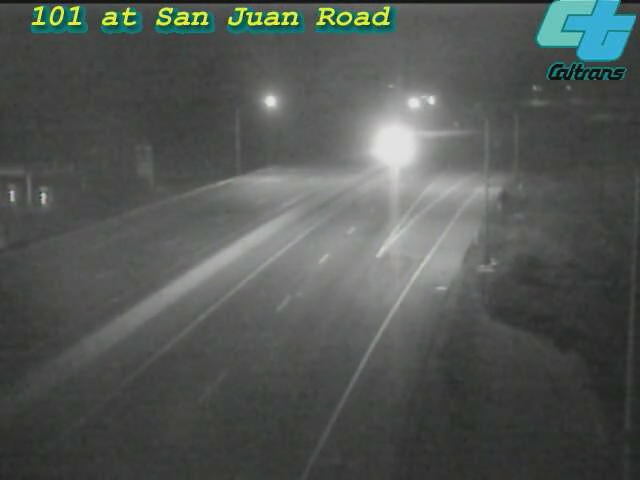vehicle: (365, 121, 415, 171)
